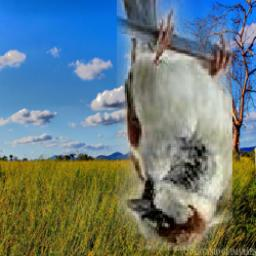Sparrow: (118, 0, 233, 252)
